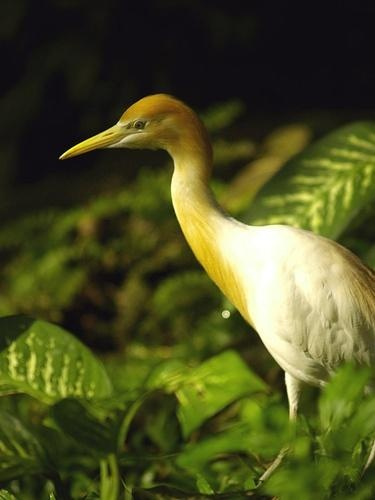bird: (56, 92, 374, 480)
